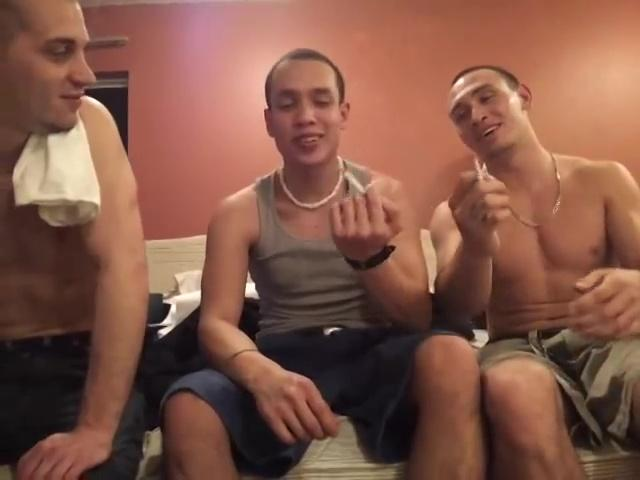cigarette: (340, 166, 369, 199), (474, 156, 486, 187)
